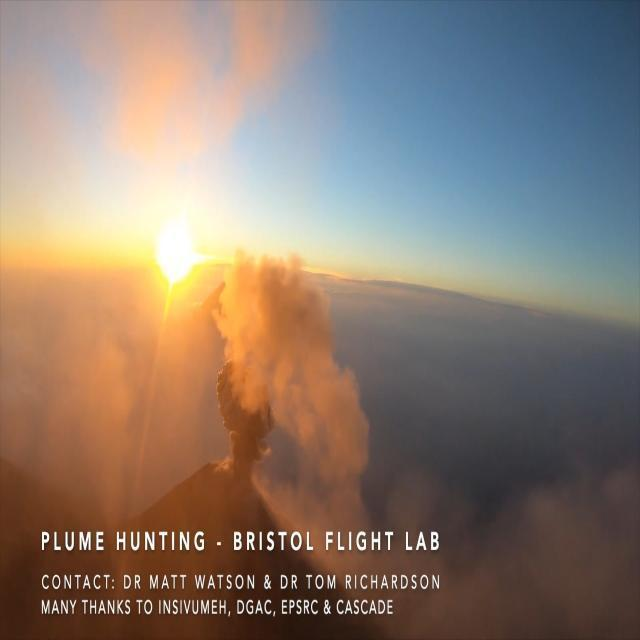Plume: (213, 240, 374, 474), (212, 348, 274, 464)
Summit: (126, 457, 332, 532)
